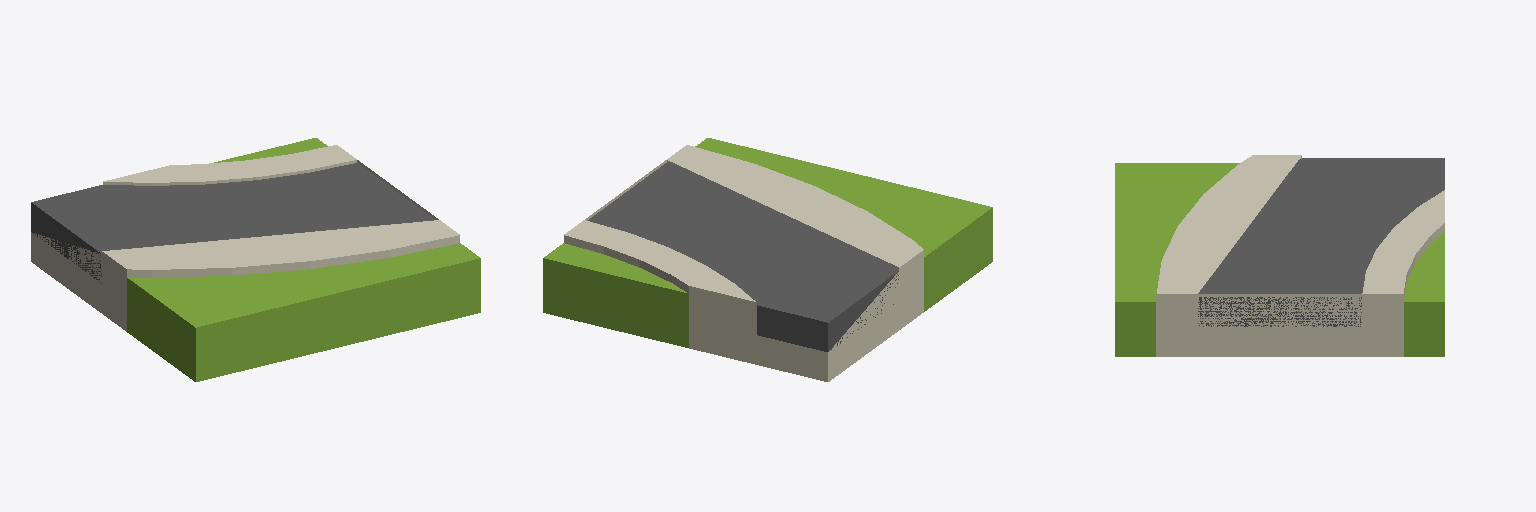
File: roadTile_156.obj
3 views of the same model, side by side, from view 1: azimuth 30°, elevation 25°; view 2: azimuth 150°, elevation 25°; view 3: azimuth 270°, elevation 25° (orthographic).
Parts seen in each view (by area): view 1: Mesh1 Group1 Model; view 2: Mesh1 Group1 Model; view 3: Mesh1 Group1 Model.
Part boxes in pixels (x1,y1,x2,y2): Mesh1 Group1 Model: (31, 138, 480, 381); Mesh1 Group1 Model: (543, 138, 992, 381); Mesh1 Group1 Model: (1115, 155, 1444, 356).
Size of the model in its own units: 3 by 0.63 by 3.